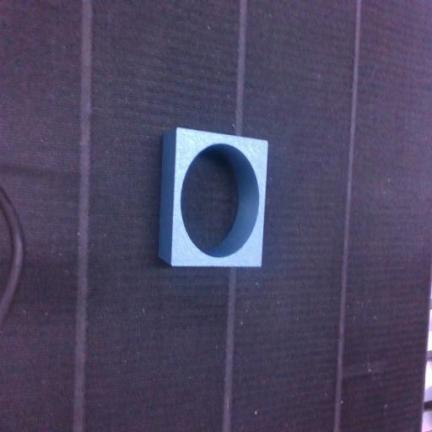hole: (159, 128, 268, 266)
